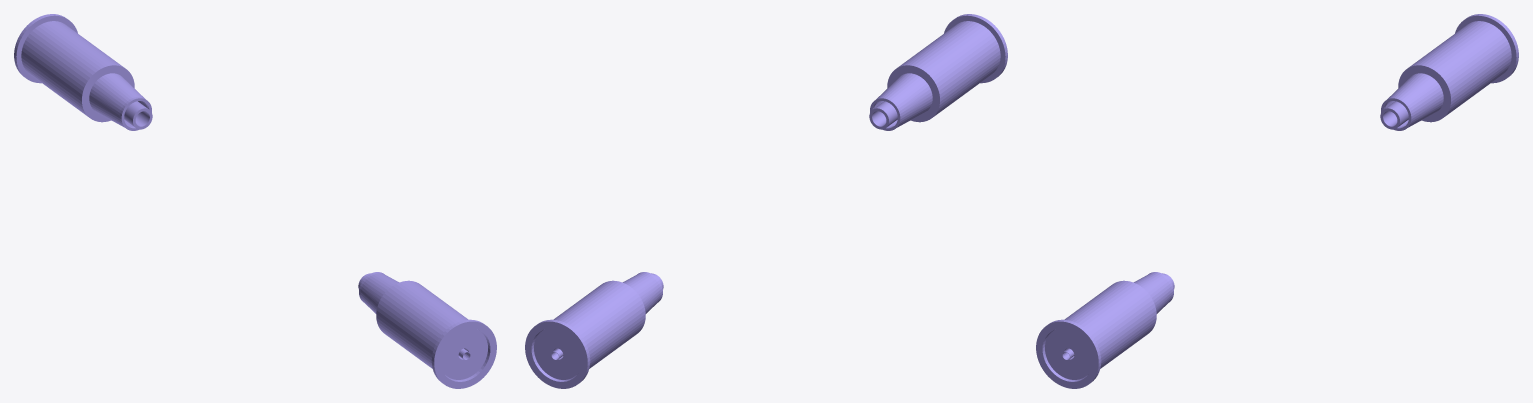
Rendered from Lar-FCAL.gltf.
3 views of the same model, side by side, from view 1: azimuth 30°, elevation 25°; view 2: azimuth 150°, elevation 25°; view 3: azimuth 330°, elevation 25° (orthographic).
Parts seen in each view (by area): view 1: _23E23F38, _1FB56CC8, _2BD85908; view 2: _23E23F38, _1FB56CC8, _2BD85908; view 3: _23E23F38, _1FB56CC8, _2BD85908.
Boxes of the visible parts, left/top/right/bottom form: _23E23F38: left=14, top=14, right=496, bottom=388; _1FB56CC8: left=440, top=328, right=487, bottom=379; _2BD85908: left=124, top=101, right=370, bottom=288; _23E23F38: left=525, top=14, right=1007, bottom=388; _1FB56CC8: left=534, top=328, right=581, bottom=379; _2BD85908: left=651, top=101, right=897, bottom=288; _23E23F38: left=1036, top=14, right=1518, bottom=388; _1FB56CC8: left=1045, top=328, right=1092, bottom=379; _2BD85908: left=1162, top=101, right=1408, bottom=288.
Bounding box in the file's own units: 1.14 × 1.14 × 13.3.
